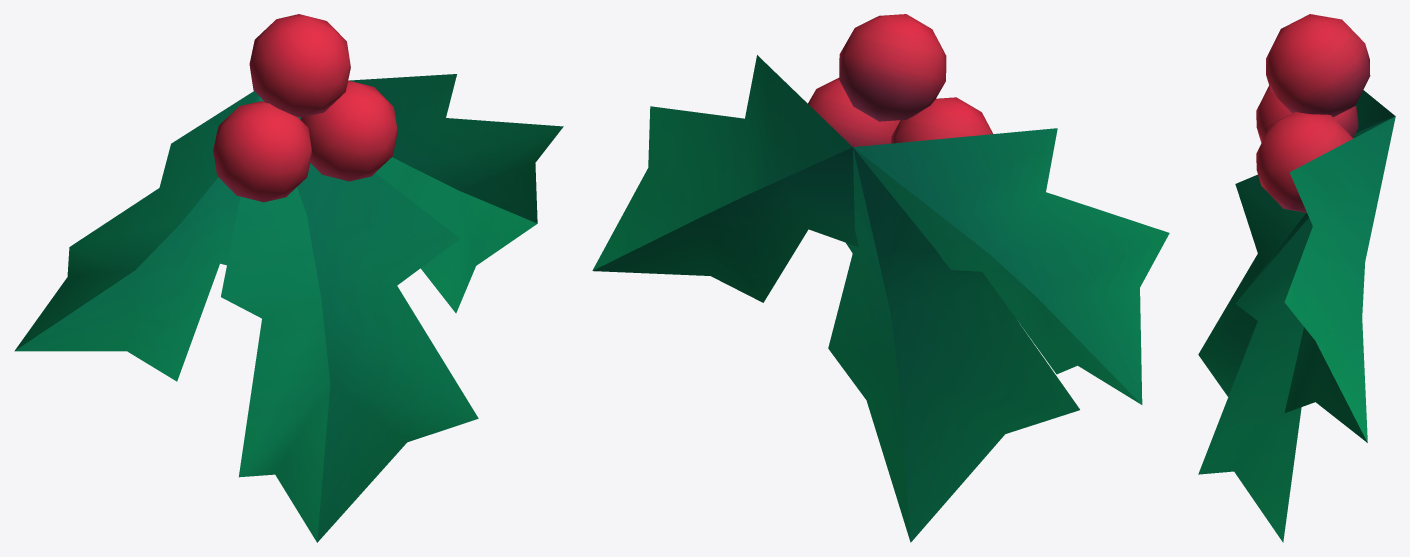
Rendered from mistel.glb.
3 renders of one model, left to right at view 1: azimuth 30°, elevation 25°; view 2: azimuth 150°, elevation 25°; view 3: azimuth 270°, elevation 25°, orthographic. The views are drawn at different scales.
Visible parts, largest first — view 1: mistletoe_A; view 2: mistletoe_A; view 3: mistletoe_A.
Boxes of the visible parts, <box> form: mistletoe_A: <box>14,14,563,542</box>; mistletoe_A: <box>592,14,1169,542</box>; mistletoe_A: <box>1198,14,1395,542</box>.
Bounding box in the file's own units: 0.7336 × 0.6855 × 0.2343.
Materials: 1 (1 with a texture image).
